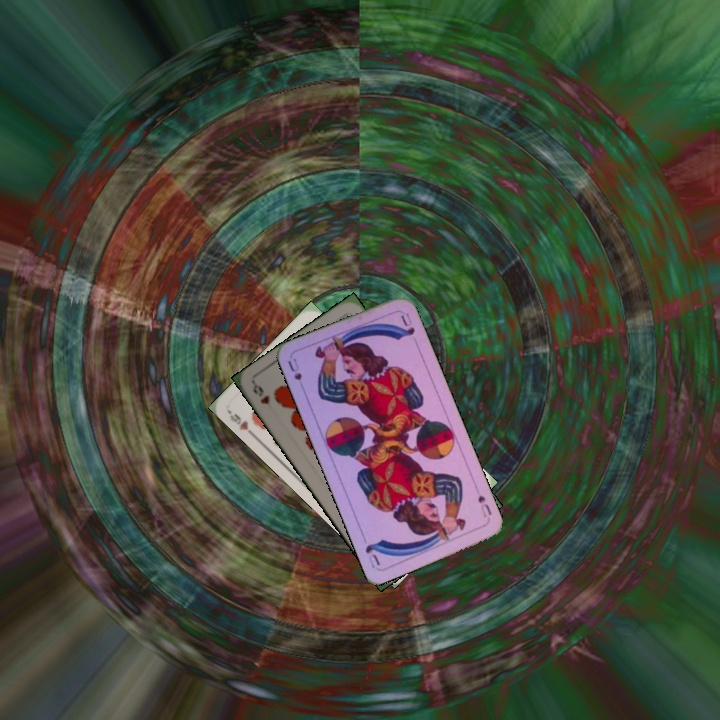H9: (224, 407, 257, 439), (248, 380, 272, 407)
SU: (284, 354, 305, 383), (474, 491, 494, 520)
